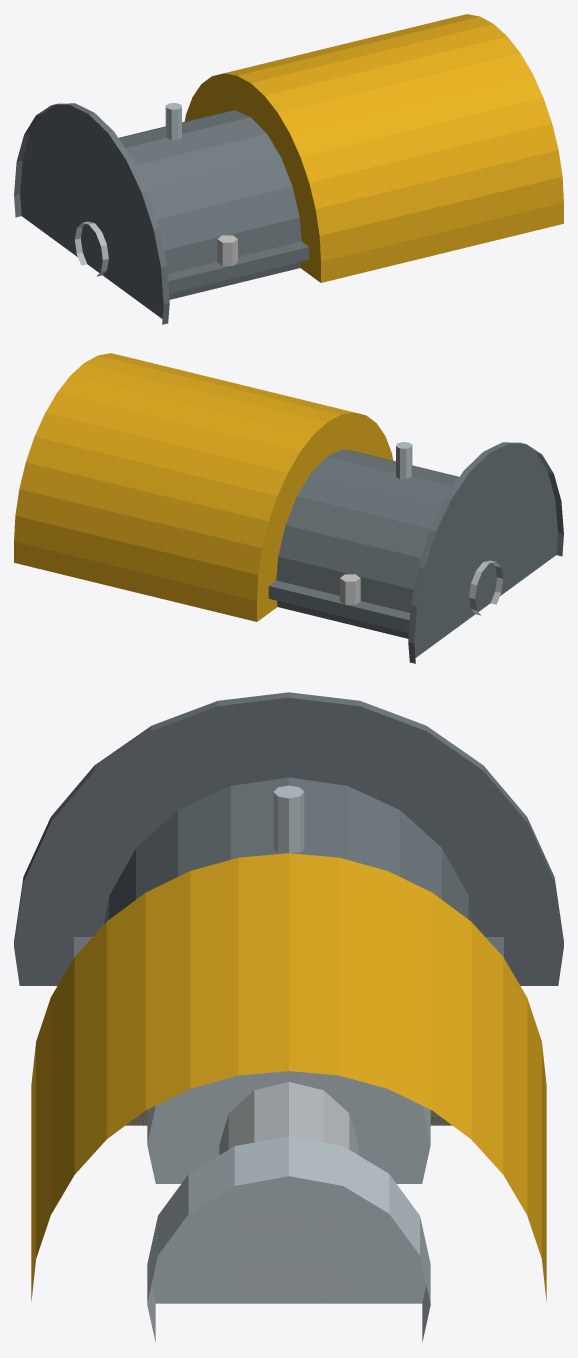
File: cell_52.obj
3 renders of one model, top to bottom at view 1: azimuth 30°, elevation 25°; view 2: azimuth 150°, elevation 25°; view 3: azimuth 270°, elevation 25°, orthographic. The views are drawn at different scales.
Bounding box in the file's own units: 1 × 0.37 × 0.64.
